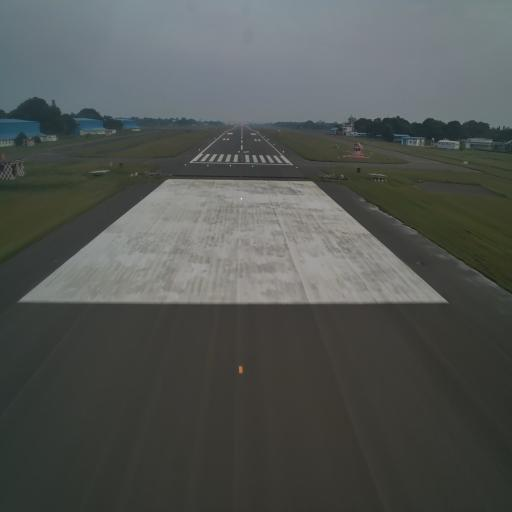off: (414, 259, 422, 268), (53, 257, 58, 265), (138, 195, 143, 200)
on: (237, 361, 247, 382), (239, 193, 244, 204)
